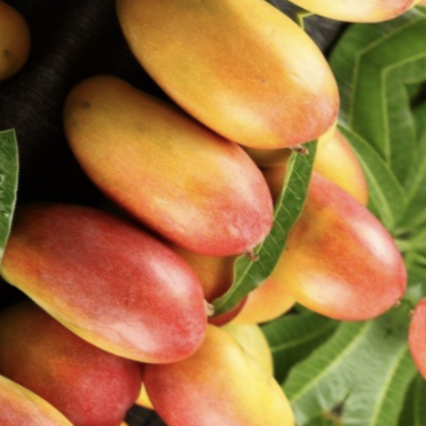mango: (0, 147, 262, 417), (21, 46, 299, 293), (80, 0, 390, 201), (208, 140, 426, 365)
